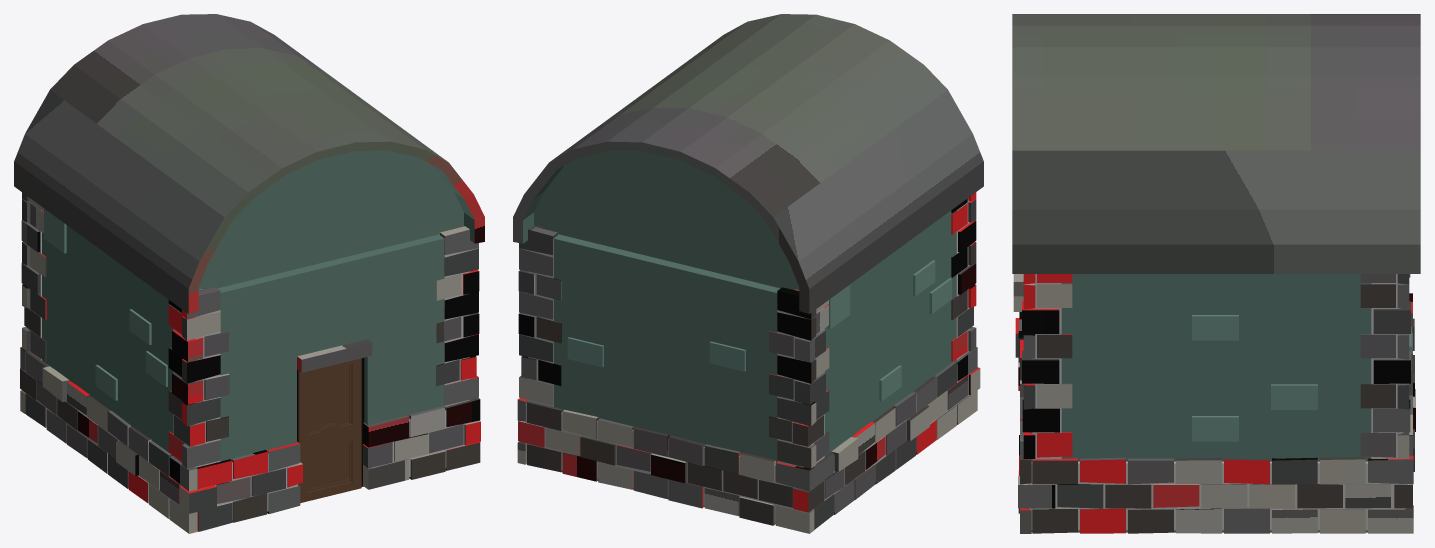
File: quaternius-ultimate-textured-building-1-story-roundroof-mat.glb
The picture shows the model from 3 angles, left to right: view 1: azimuth 30°, elevation 25°; view 2: azimuth 150°, elevation 25°; view 3: azimuth 270°, elevation 25°; orthographic projection. The views are drawn at different scales.
Visible parts, largest first — view 1: 1Story_RoundRoof_Mat; view 2: 1Story_RoundRoof_Mat; view 3: 1Story_RoundRoof_Mat.
Part boxes in pixels (x1=…): 1Story_RoundRoof_Mat: x1=14, y1=14, x2=484, y2=533; 1Story_RoundRoof_Mat: x1=513, y1=14, x2=983, y2=533; 1Story_RoundRoof_Mat: x1=1012, y1=14, x2=1420, y2=533.
Size of the model in its own units: 2.09 by 2.38 by 2.13.
Materials: 5 (1 with a texture image).
